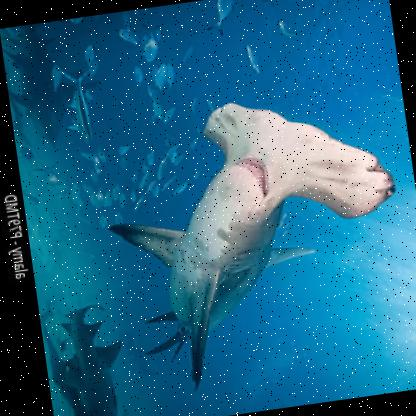hammerhead_Shark: (82, 69, 415, 404)
